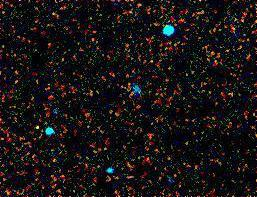star: (18, 113, 48, 143)
